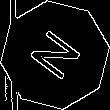N_SE: (23, 24, 87, 86)
